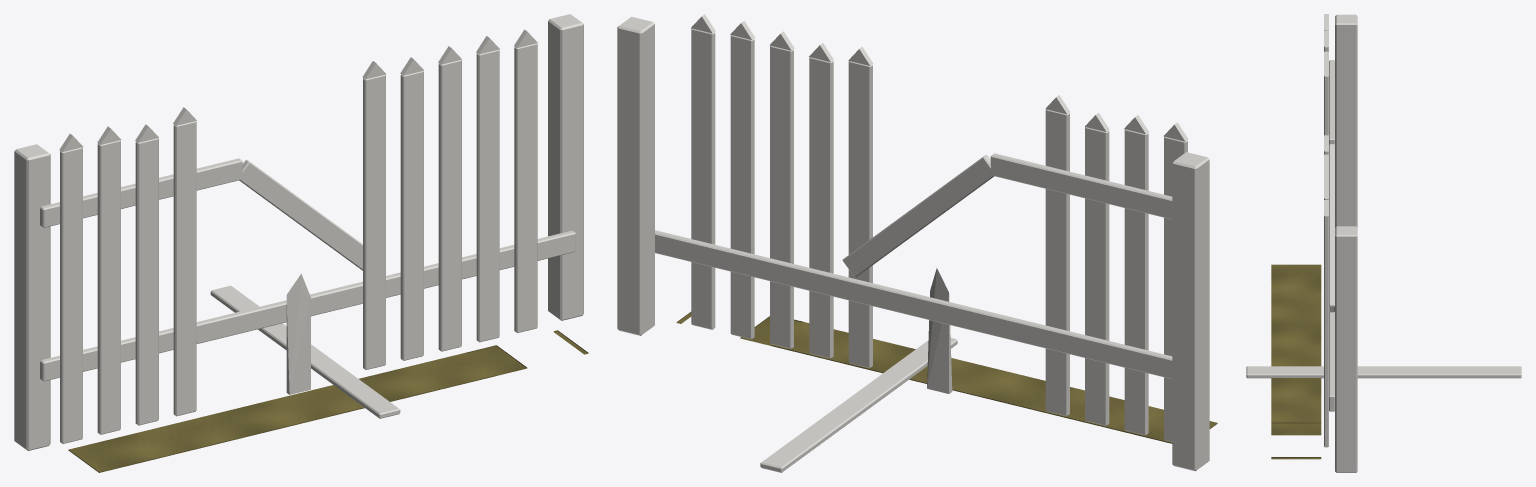
Rendered from cerca_quebrada.glb.
The picture shows the model from 3 angles, left to right: view 1: azimuth 30°, elevation 25°; view 2: azimuth 150°, elevation 25°; view 3: azimuth 270°, elevation 25°; orthographic projection. The views are drawn at different scales.
Visible parts, largest first — view 1: cerca_quebrada_madeira_branca, cerca_quebrada_grama_seca; view 2: cerca_quebrada_madeira_branca, cerca_quebrada_grama_seca; view 3: cerca_quebrada_madeira_branca, cerca_quebrada_grama_seca.
Part boxes in pixels (x1,y1,x2,y2): cerca_quebrada_madeira_branca: (14, 14, 583, 450); cerca_quebrada_grama_seca: (68, 330, 588, 472); cerca_quebrada_madeira_branca: (617, 14, 1209, 472); cerca_quebrada_grama_seca: (676, 312, 1217, 443); cerca_quebrada_madeira_branca: (1246, 14, 1521, 472); cerca_quebrada_grama_seca: (1271, 264, 1321, 459).
Bounding box in the file's own units: 2.09 × 1.12 × 1.1.
Materials: 2 (1 with a texture image).
